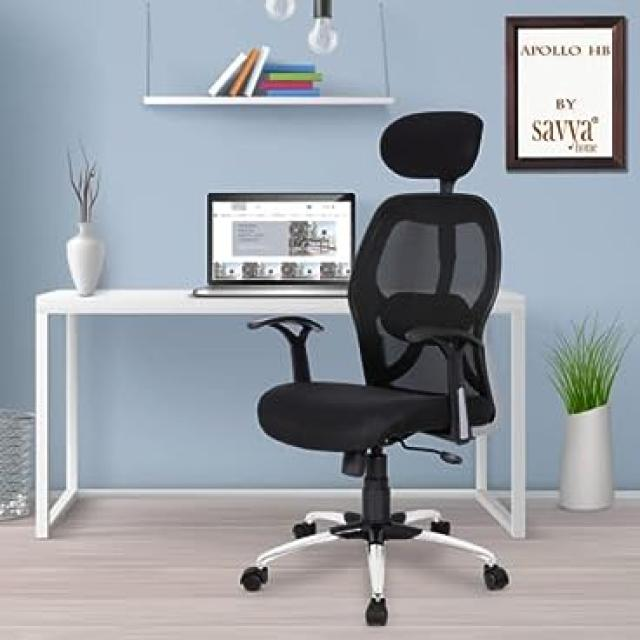chair: (166, 93, 548, 640)
